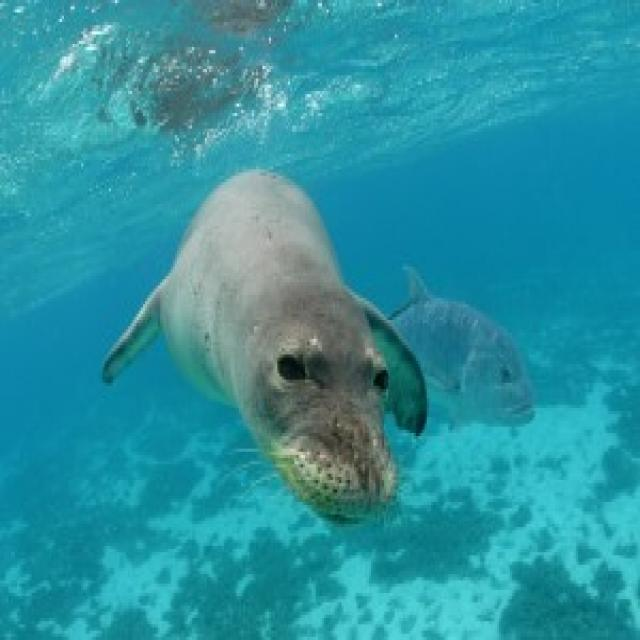Seal: (122, 164, 402, 565)
